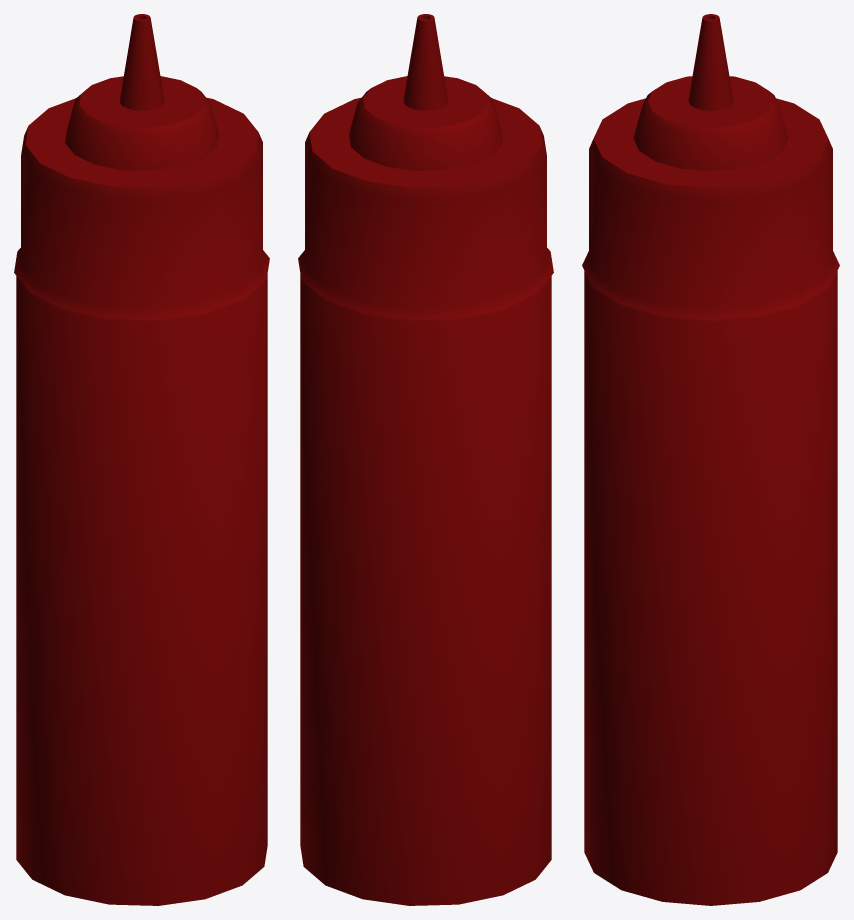
File: saucebottle.fbx
3 renders of one model, left to right at view 1: azimuth 30°, elevation 25°; view 2: azimuth 150°, elevation 25°; view 3: azimuth 270°, elevation 25°, orthographic.
Parts seen in each view (by area): view 1: SauceBottle; view 2: SauceBottle; view 3: SauceBottle.
Boxes of the visible parts, <box> form: SauceBottle: <box>14,14,269,905</box>; SauceBottle: <box>298,14,553,905</box>; SauceBottle: <box>582,14,839,905</box>.
Bounding box in the file's own units: 23.04 × 83.11 × 23.04.
